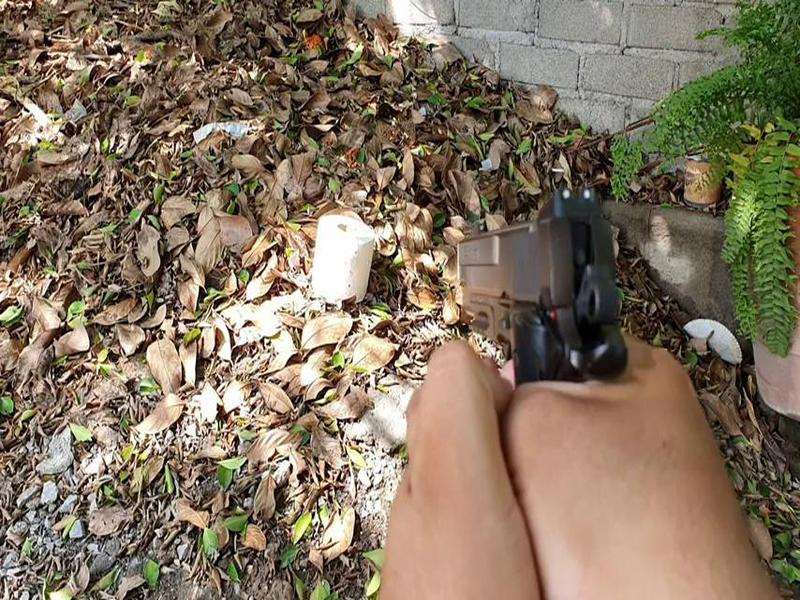Pistola: (435, 154, 667, 434)
